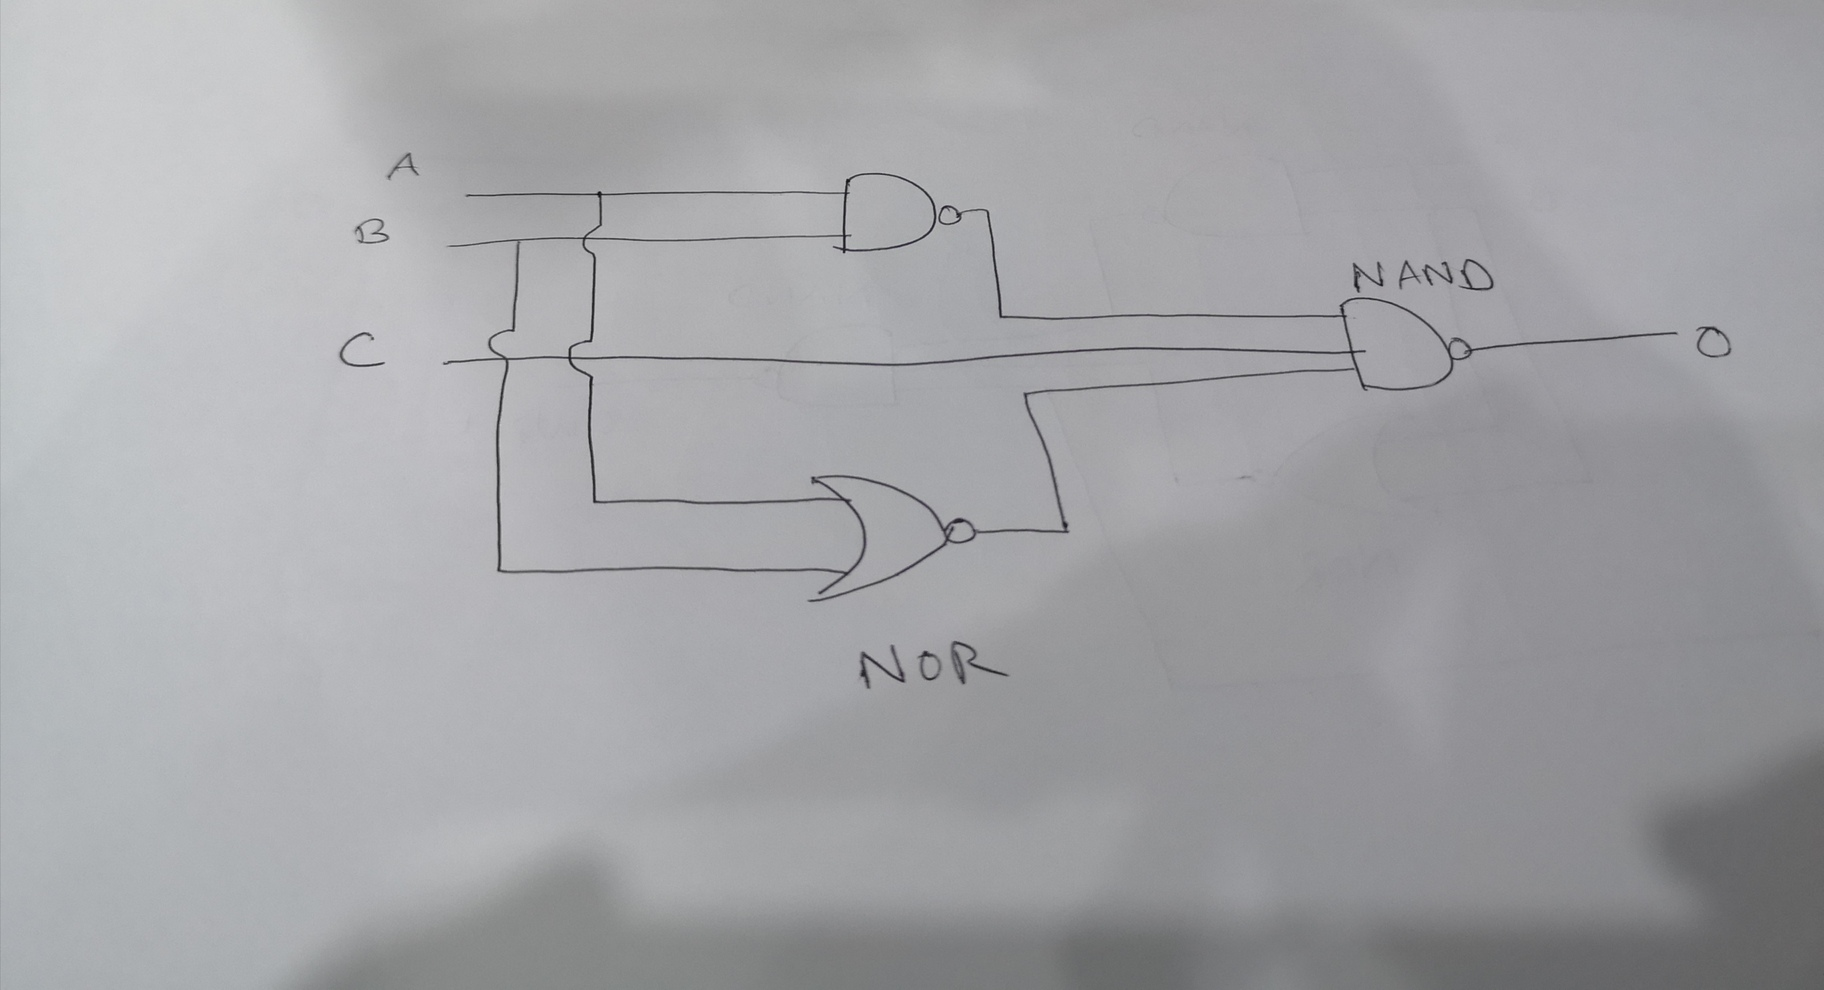crossover: (484, 323, 523, 371), (565, 334, 597, 386), (577, 221, 606, 258)
junction: (1049, 512, 1079, 546), (1014, 383, 1042, 408), (989, 305, 1012, 327), (491, 558, 512, 579), (584, 491, 604, 512), (508, 233, 530, 249), (975, 202, 994, 218), (593, 187, 607, 202)
nand: (1336, 291, 1480, 396), (828, 169, 967, 260)
nor: (800, 466, 983, 611)
terminal: (1661, 323, 1687, 343), (456, 188, 476, 204), (443, 239, 460, 254), (438, 357, 454, 369)
text: (860, 636, 1010, 696), (1348, 254, 1498, 297), (337, 330, 387, 369), (1691, 322, 1733, 360), (347, 215, 393, 247), (382, 148, 421, 182)
